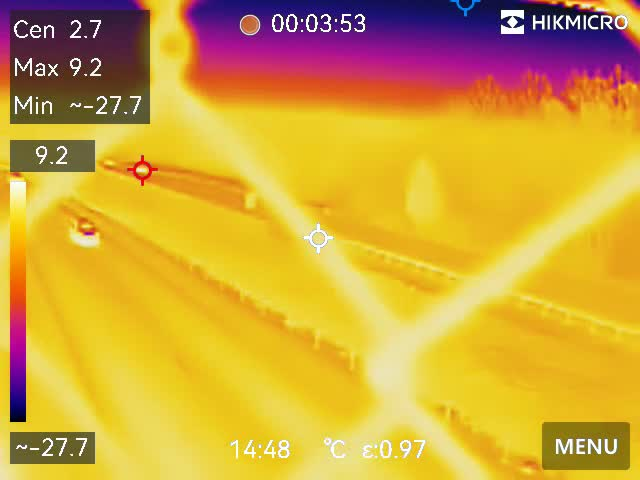vehicle: (61, 212, 106, 251)
